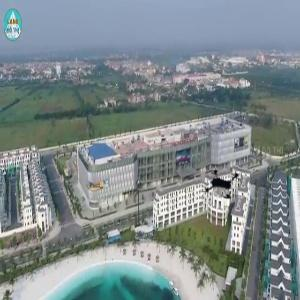drone: (198, 165, 247, 214)
